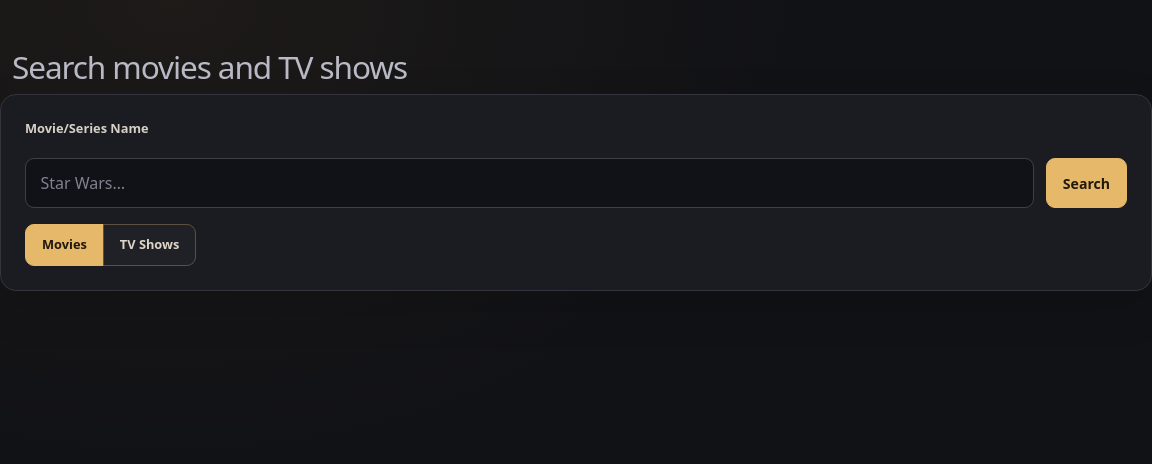
Scenario: existing workflow regression repairs › separates empty search from a request error
The image size is (1152, 464).
In the search field labelled "Movie/Series Name": (529, 183) x1=25 y1=158 x2=1034 y2=208, type "Example"
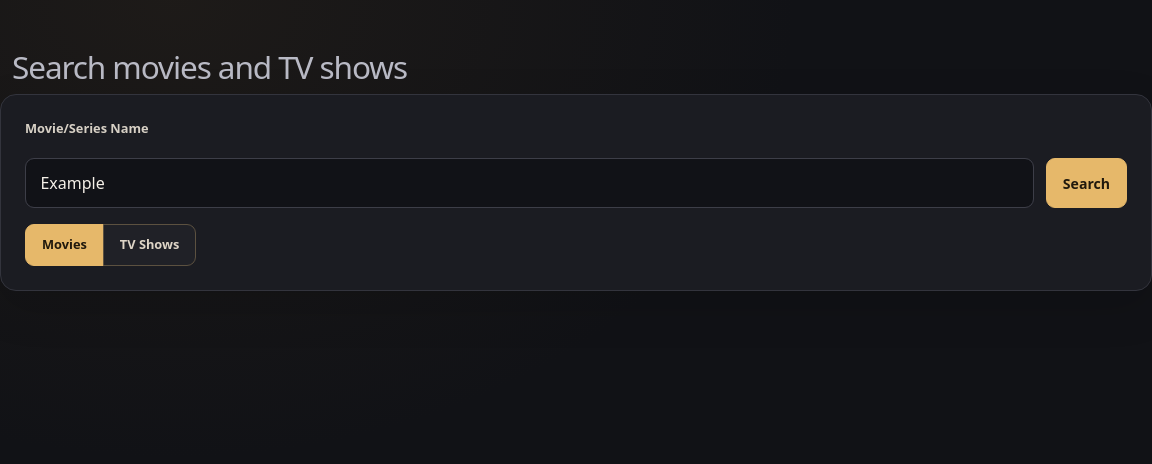
Click the button "Search": (1086, 183) x1=1046 y1=158 x2=1127 y2=208
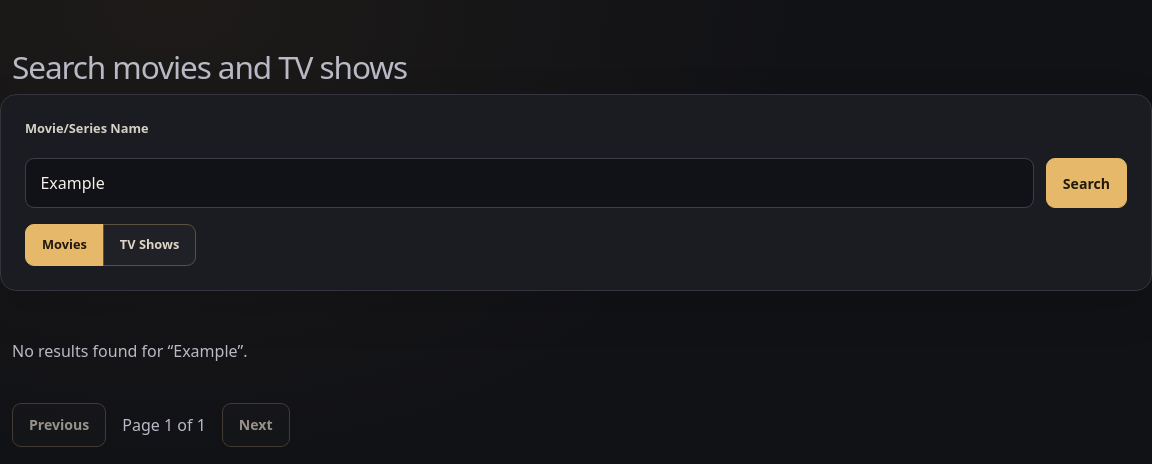
Now the text "No results found for “Example”." is shown, box x1=12 y1=340 x2=247 y2=362
